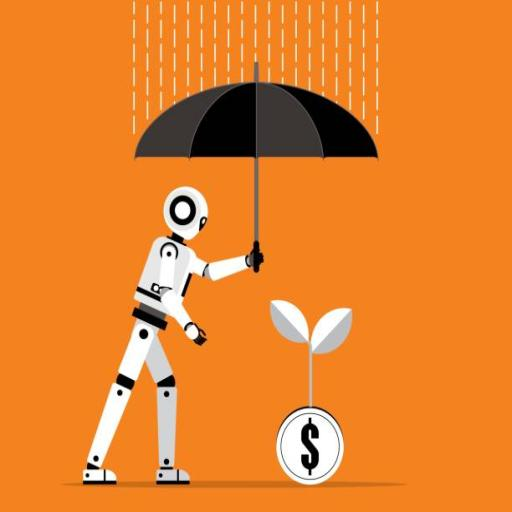guarda_chuva: (133, 60, 378, 272)
